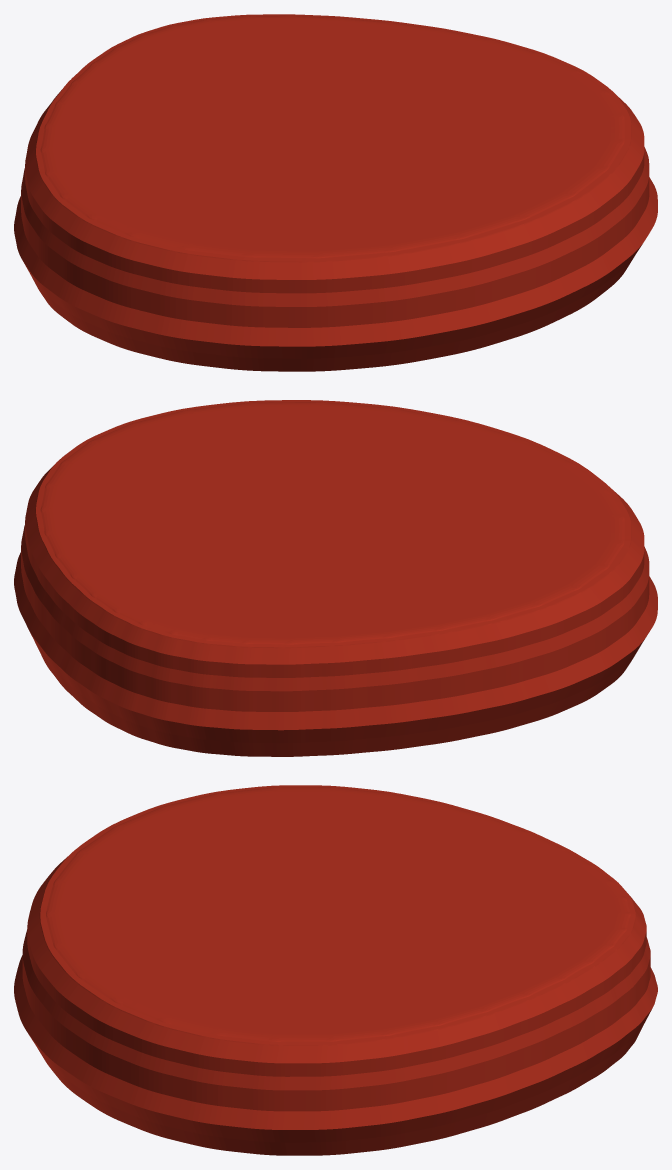
The model's file is patty.fbx.
3 views of the same model, one above another, from view 1: azimuth 30°, elevation 25°; view 2: azimuth 150°, elevation 25°; view 3: azimuth 270°, elevation 25° (orthographic).
Parts seen in each view (by area): view 1: Cylinder; view 2: Cylinder; view 3: Cylinder.
Boxes of the visible parts, x1,y1,x2,y2 form: Cylinder: (14,14,657,371); Cylinder: (14,400,657,756); Cylinder: (14,785,657,1155).
Bounding box in the file's own units: 226 × 42.25 × 219.
